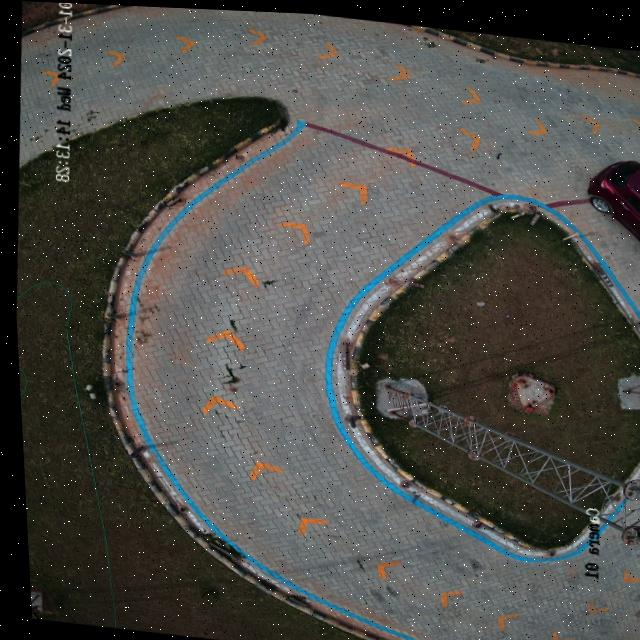car: (585, 153, 640, 238)
